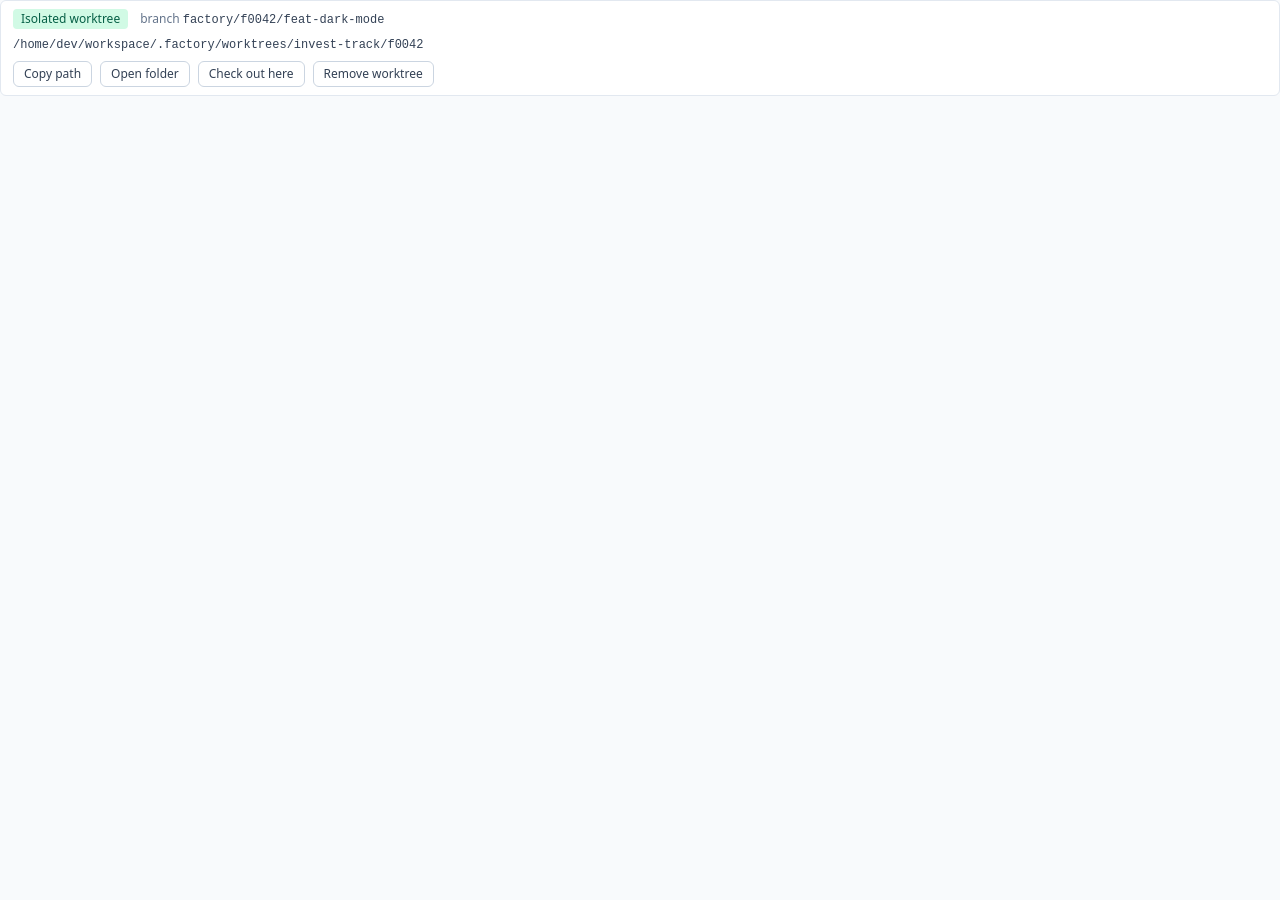
Scenario: "Check out here" › says why when the factory could not, and the folder is still there
The image size is (1280, 900).
Click the button "Check out here": (251, 74) x1=198 y1=61 x2=305 y2=87
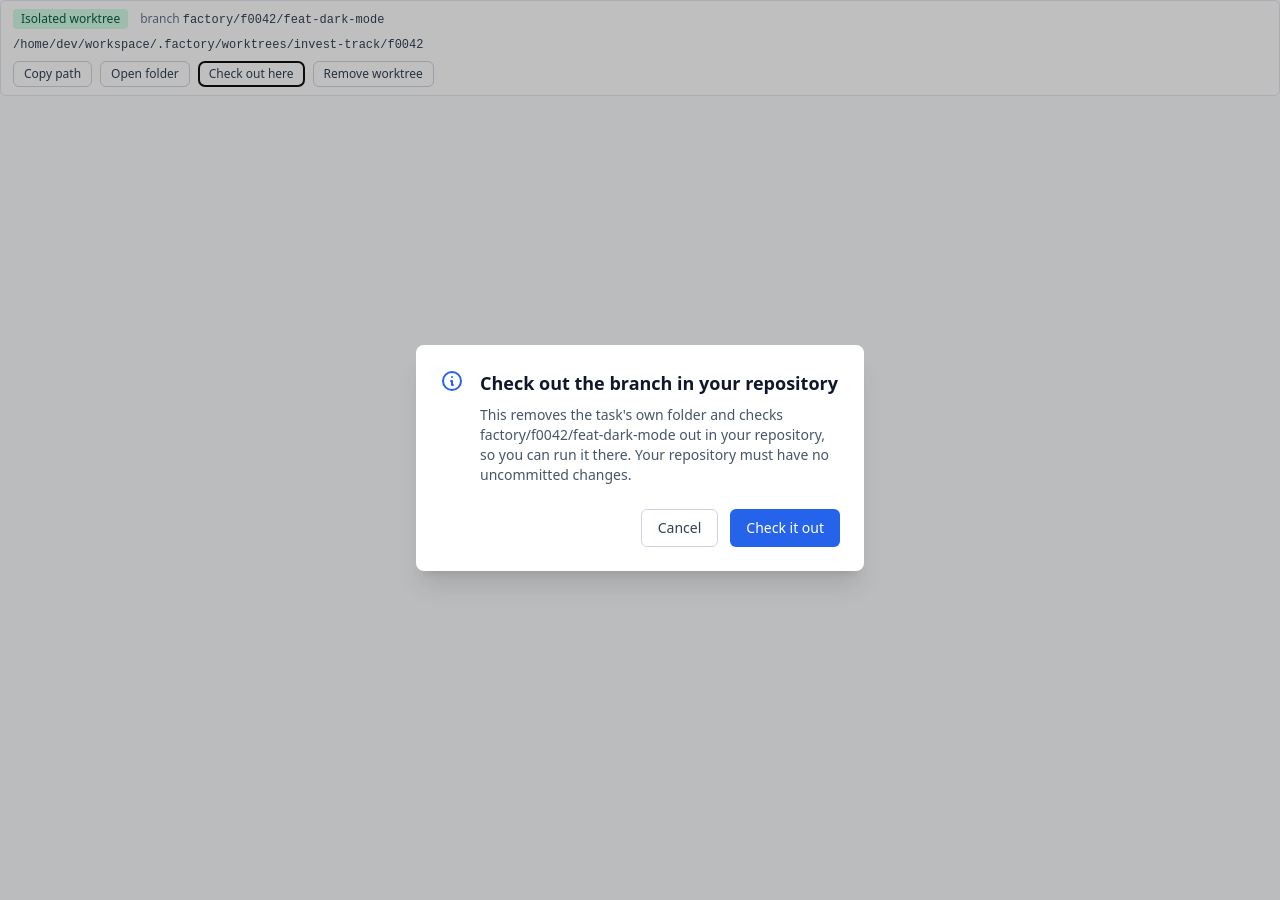
Click the button "Check it out": (785, 528) x1=730 y1=509 x2=840 y2=547
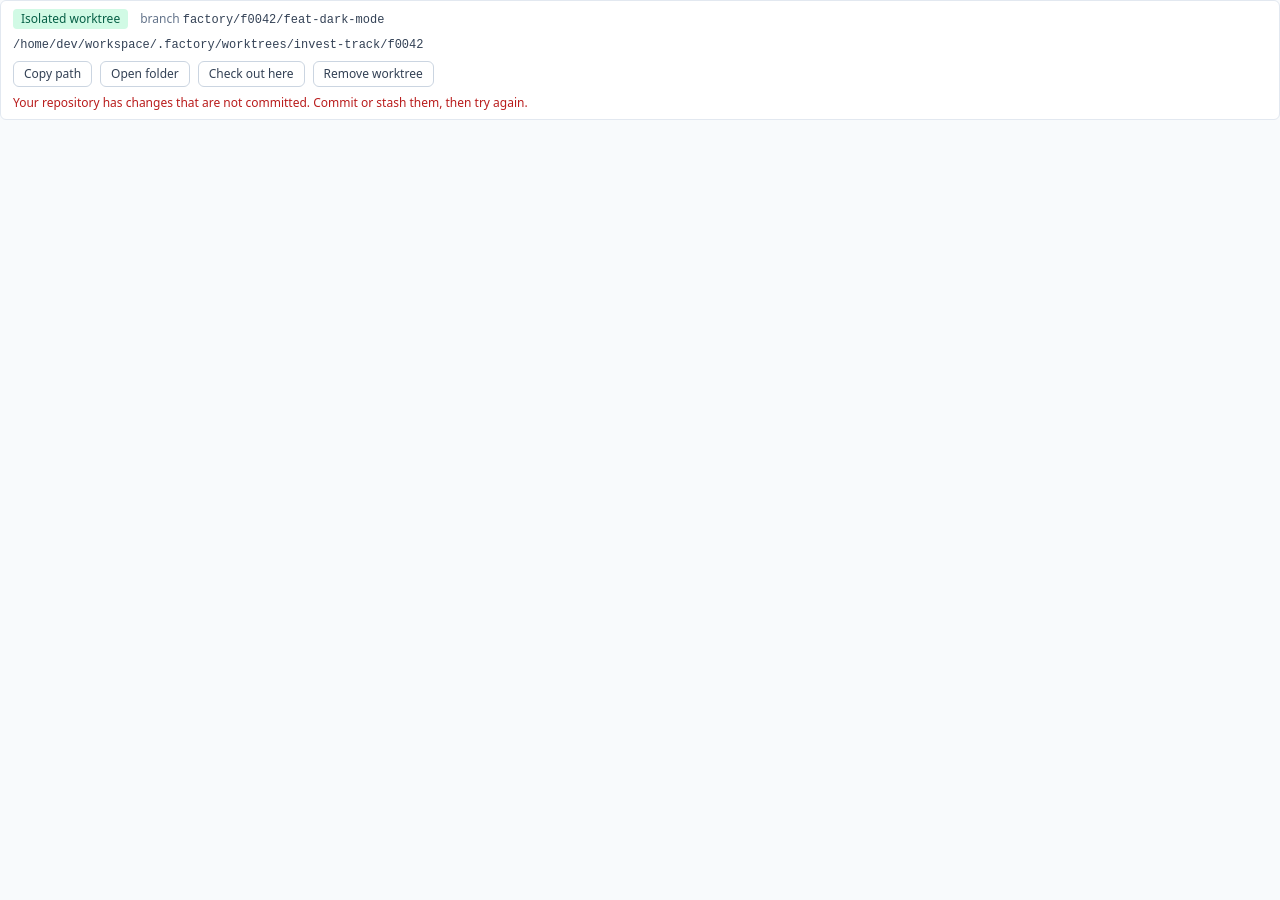
Expected: the text with test id "work-path" reads "/home/dev/workspace/.factory/worktrees/invest-track/f0042", x1=13 y1=38 x2=424 y2=52
Expected: the message shows "Your repository has changes that are not committed", x1=13 y1=94 x2=528 y2=111
